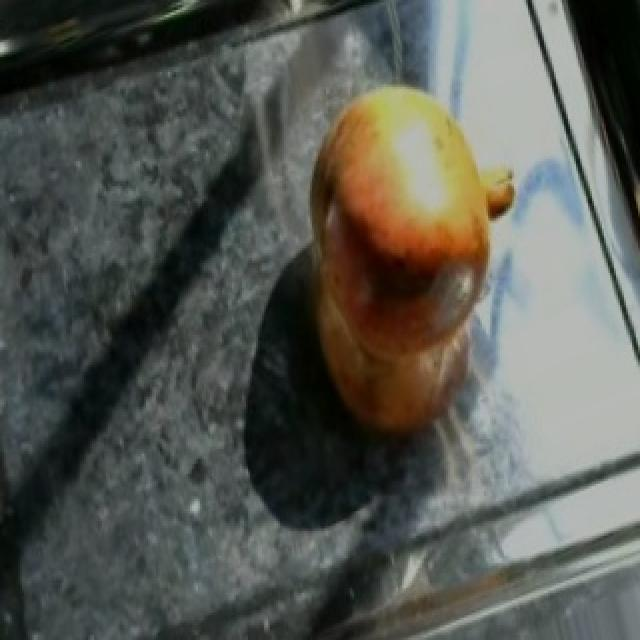fruit: (270, 50, 542, 352)
